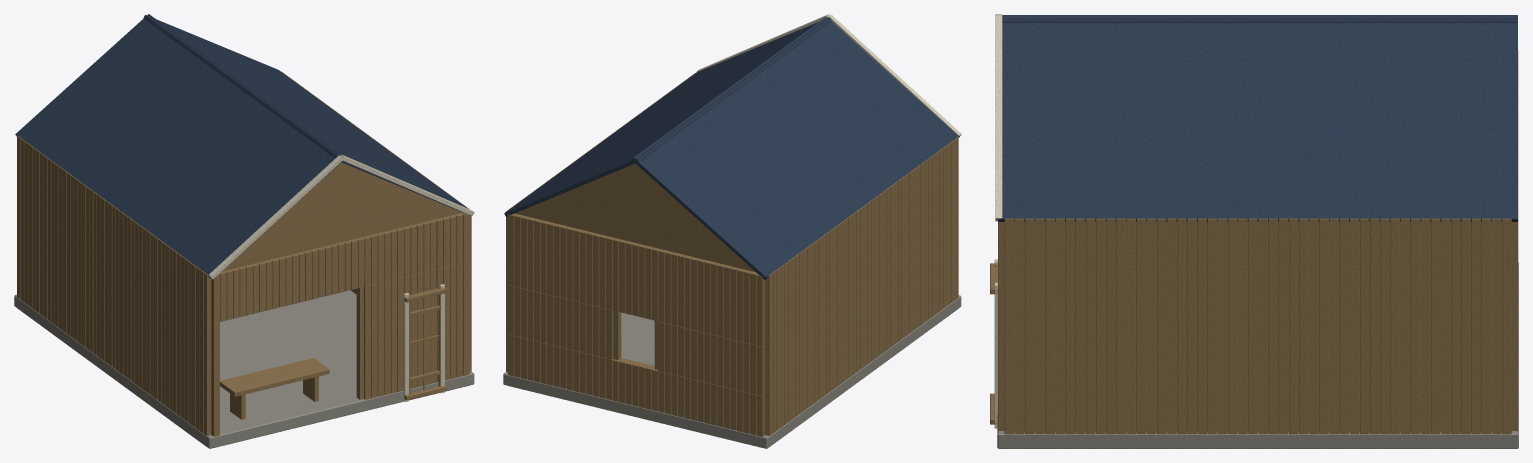
Rendered from BARN32_lod1.glb.
3 views of the same model, side by side, from view 1: azimuth 30°, elevation 25°; view 2: azimuth 150°, elevation 25°; view 3: azimuth 270°, elevation 25° (orthographic). The views are drawn at different scales.
Visible parts, largest first — view 1: BARN32_LOD1; view 2: BARN32_LOD1; view 3: BARN32_LOD1.
Part boxes in pixels (x1=…): BARN32_LOD1: x1=14, y1=14, x2=474, y2=448; BARN32_LOD1: x1=503, y1=14, x2=961, y2=448; BARN32_LOD1: x1=990, y1=14, x2=1518, y2=448.
Size of the model in its own units: 7.25 by 6.81 by 9.38.
8 materials, 6 textured.
